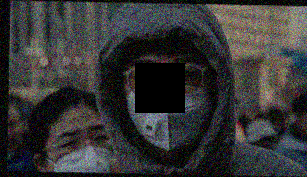with_mask: (121, 53, 213, 154), (43, 120, 116, 173)
